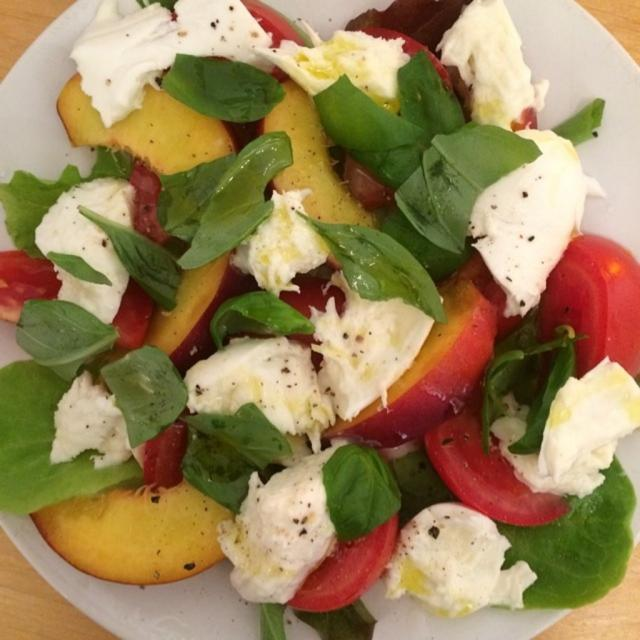Tomato: (418, 408, 576, 535), (528, 228, 639, 383), (288, 516, 406, 613), (363, 29, 453, 86), (276, 274, 342, 351), (240, 0, 301, 82), (0, 249, 63, 325), (127, 156, 169, 242), (117, 279, 164, 354), (137, 423, 180, 487)
